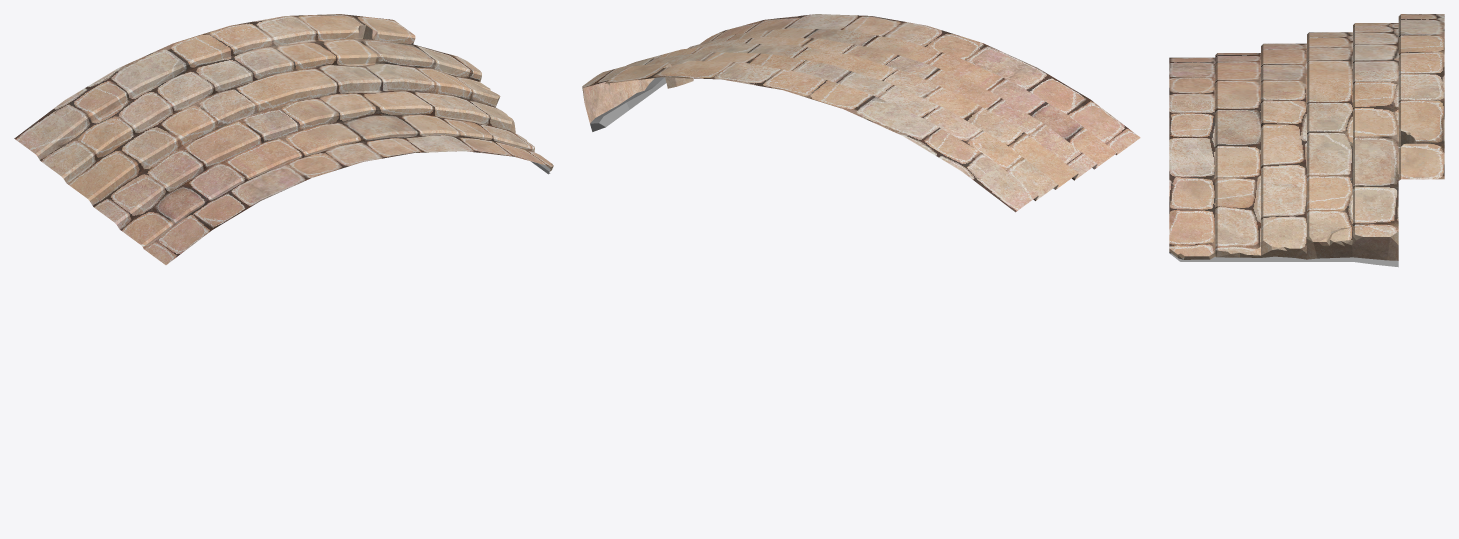
The model's file is VisibleParts001.obj.
3 renders of one model, left to right at view 1: azimuth 30°, elevation 25°; view 2: azimuth 150°, elevation 25°; view 3: azimuth 270°, elevation 25°, orthographic. The views are drawn at different scales.
Parts seen in each view (by area): view 1: pCylinder467__WallBrickBase04; view 2: pCylinder467__WallBrickBase04, pCylinder467__BlockStoneBase02, pCylinder467__Black00; view 3: pCylinder467__WallBrickBase04, pCylinder467__BlockStoneBase02, pCylinder467__Black00.
Boxes of the visible parts, x1,y1,x2,y2 form: pCylinder467__WallBrickBase04: [14, 14, 553, 264]; pCylinder467__WallBrickBase04: [582, 14, 1140, 212]; pCylinder467__BlockStoneBase02: [582, 63, 693, 123]; pCylinder467__Black00: [590, 77, 666, 131]; pCylinder467__WallBrickBase04: [1169, 14, 1444, 259]; pCylinder467__BlockStoneBase02: [1169, 131, 1416, 260]; pCylinder467__Black00: [1169, 252, 1398, 267].
Bounding box in the file's own units: 1105 × 1115 × 600.
4 materials, 2 textured.
